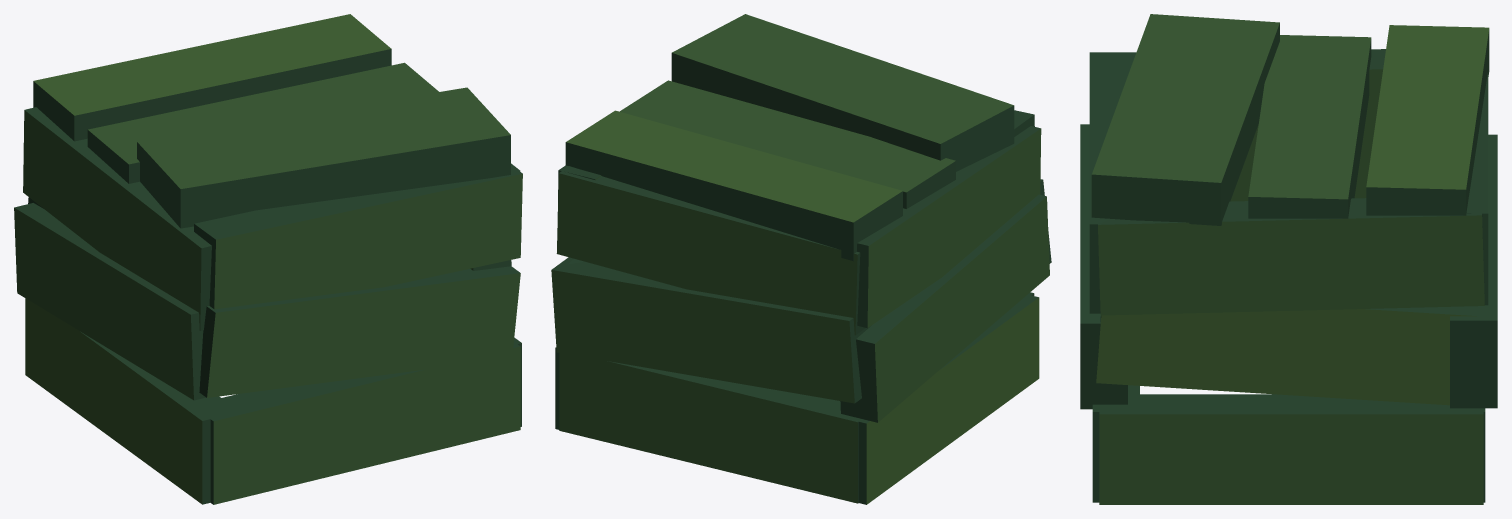
The model's file is woodCrate.fbx.
The picture shows the model from 3 angles, left to right: view 1: azimuth 30°, elevation 25°; view 2: azimuth 150°, elevation 25°; view 3: azimuth 270°, elevation 25°; orthographic projection. The views are drawn at different scales.
Visible parts, largest first — view 1: Mesh_SoftWoodCrate; view 2: Mesh_SoftWoodCrate; view 3: Mesh_SoftWoodCrate.
Part boxes in pixels (left/top/right/bottom): Mesh_SoftWoodCrate: left=14, top=14, right=522, bottom=504; Mesh_SoftWoodCrate: left=551, top=14, right=1051, bottom=504; Mesh_SoftWoodCrate: left=1080, top=14, right=1497, bottom=504.
Size of the model in its own units: 1.26 by 1.27 by 1.08.
